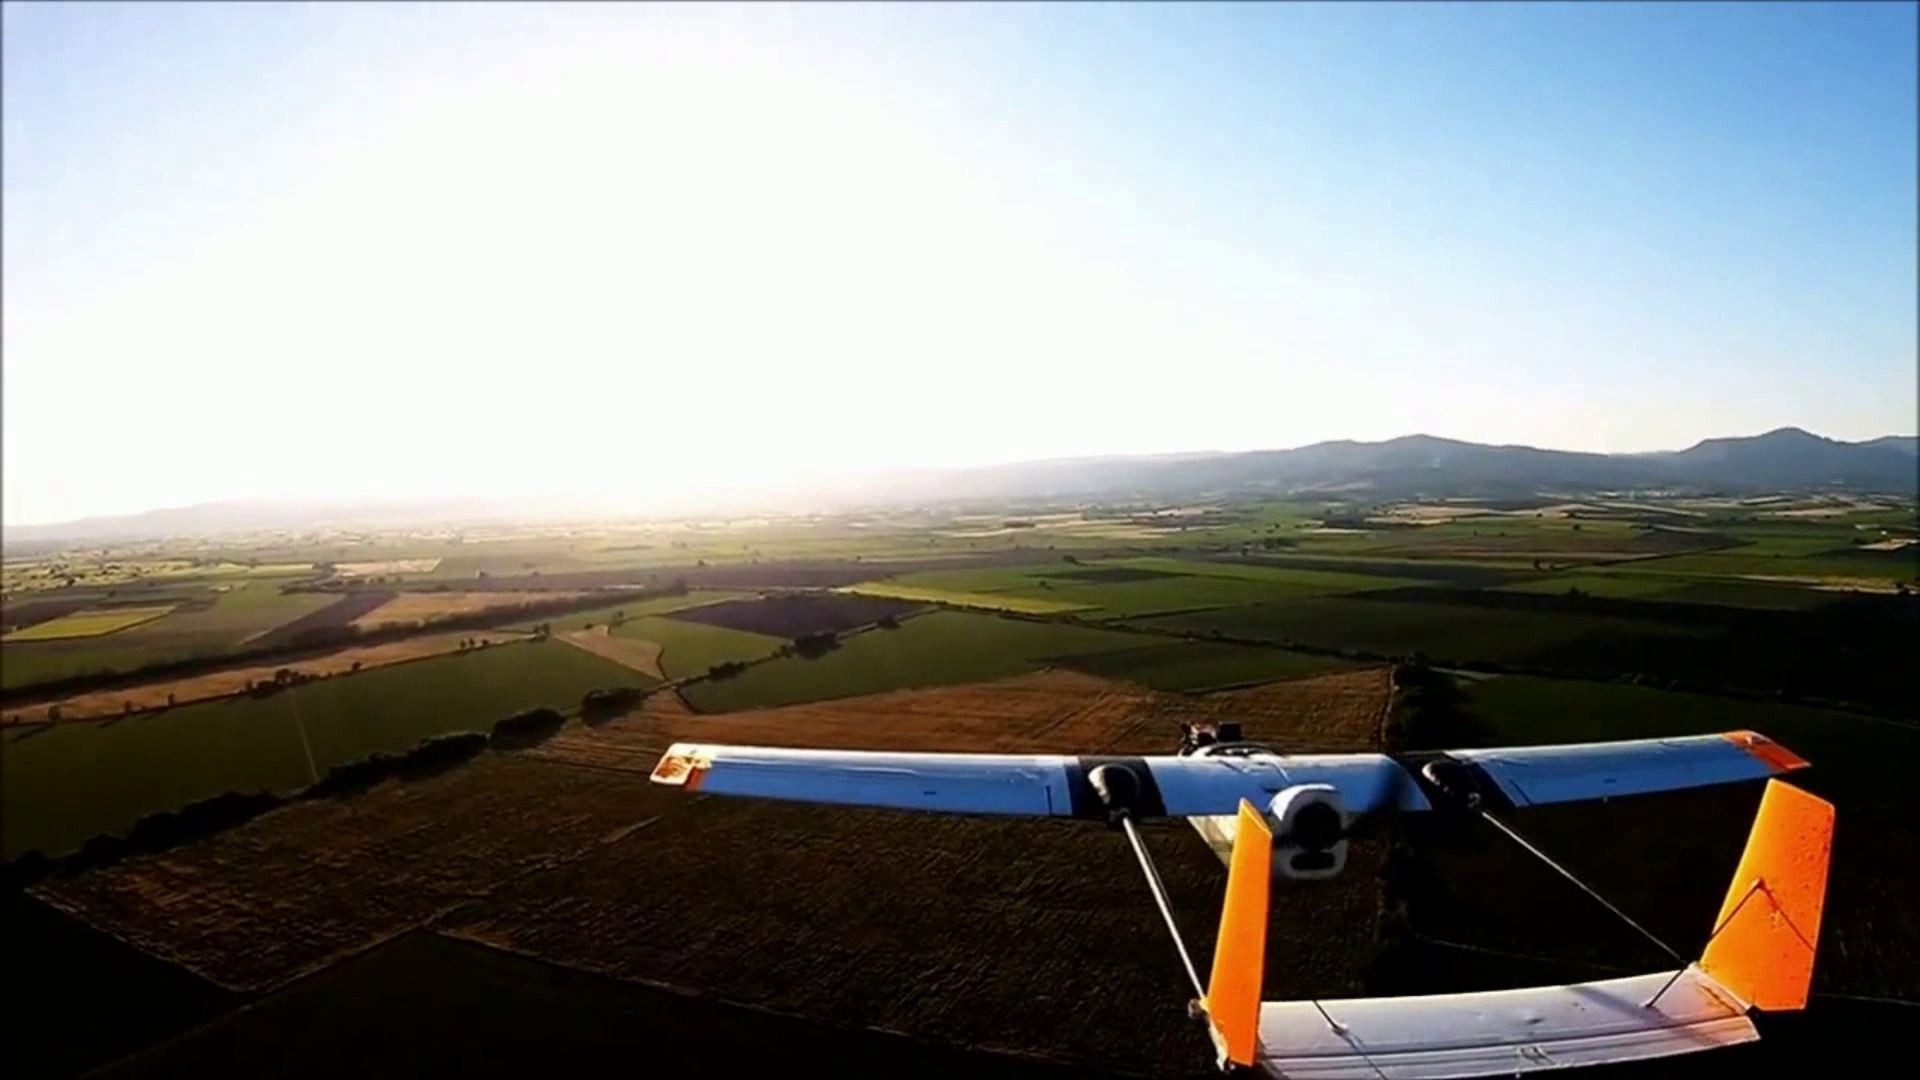airplane: (658, 731, 1840, 1071)
